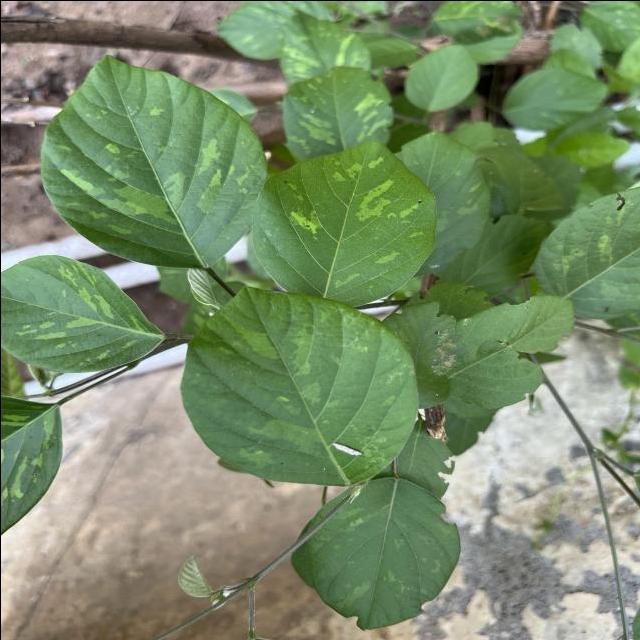Desmodium gangeticum: (36, 52, 270, 270), (176, 281, 421, 488), (249, 137, 439, 308), (302, 474, 462, 632), (1, 252, 168, 376)
